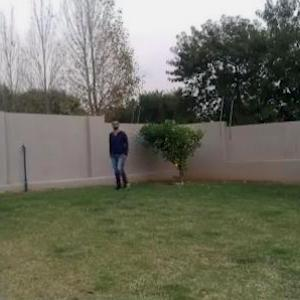follow: (111, 122, 128, 188)
